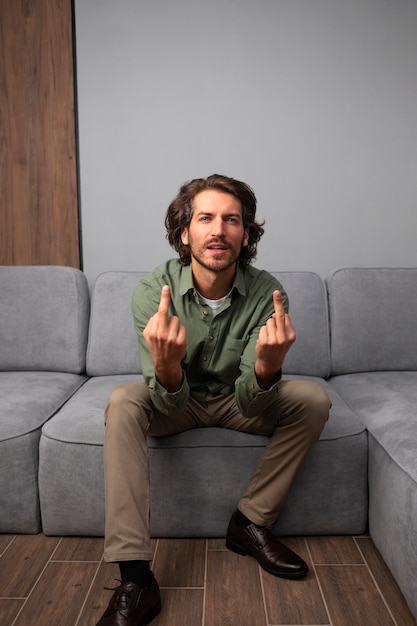insulting_gesture: (139, 282, 188, 369), (254, 288, 297, 369)
